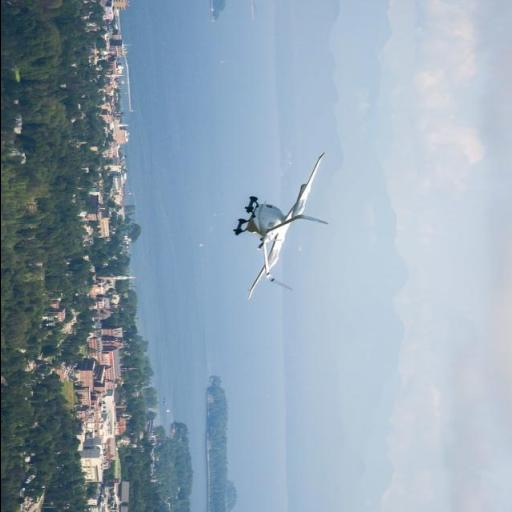uav: (212, 148, 330, 304)
